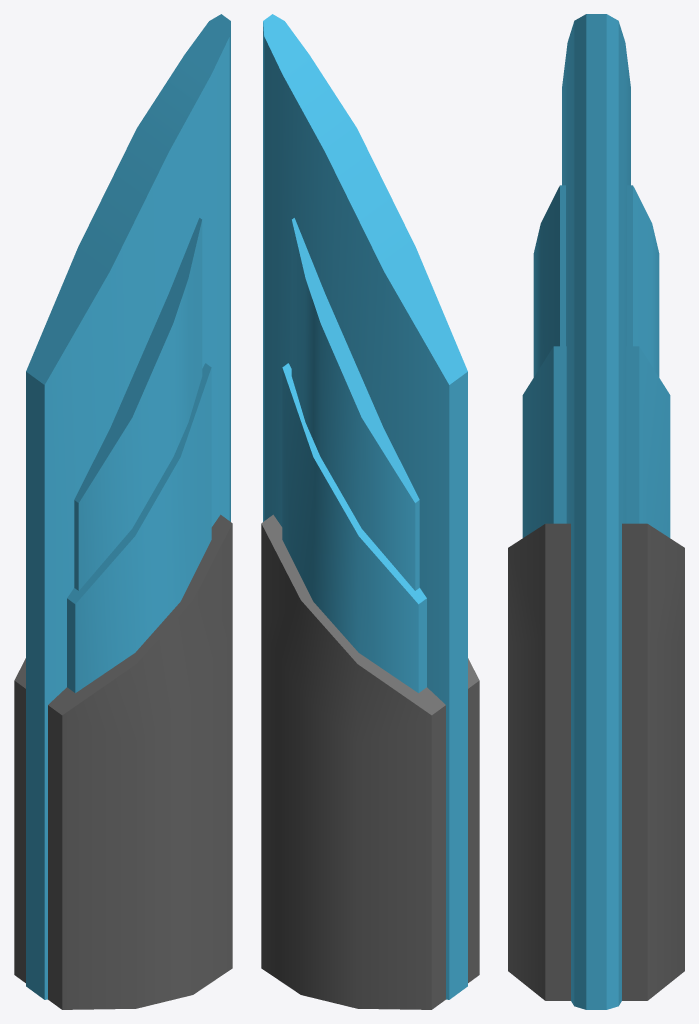
Rendered from Skyscraper_13.fbx.
3 views of the same model, side by side, from view 1: azimuth 30°, elevation 25°; view 2: azimuth 150°, elevation 25°; view 3: azimuth 270°, elevation 25° (orthographic). The views are drawn at different scales.
Visible parts, largest first — view 1: Skyscraper_13; view 2: Skyscraper_13; view 3: Skyscraper_13.
Boxes of the visible parts, left/top/right/bottom form: Skyscraper_13: left=14, top=14, right=232, bottom=1009; Skyscraper_13: left=261, top=14, right=479, bottom=1009; Skyscraper_13: left=508, top=14, right=684, bottom=1009.
Bounding box in the file's own units: 36.34 × 169 × 27.22.
